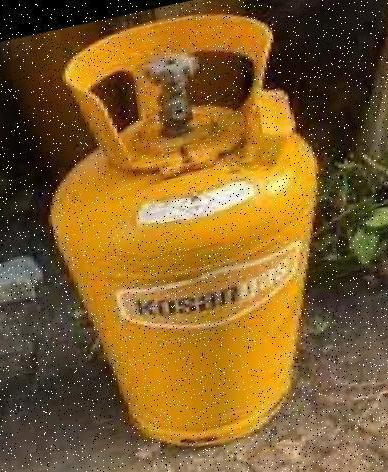cylinder: (1, 0, 388, 472)
